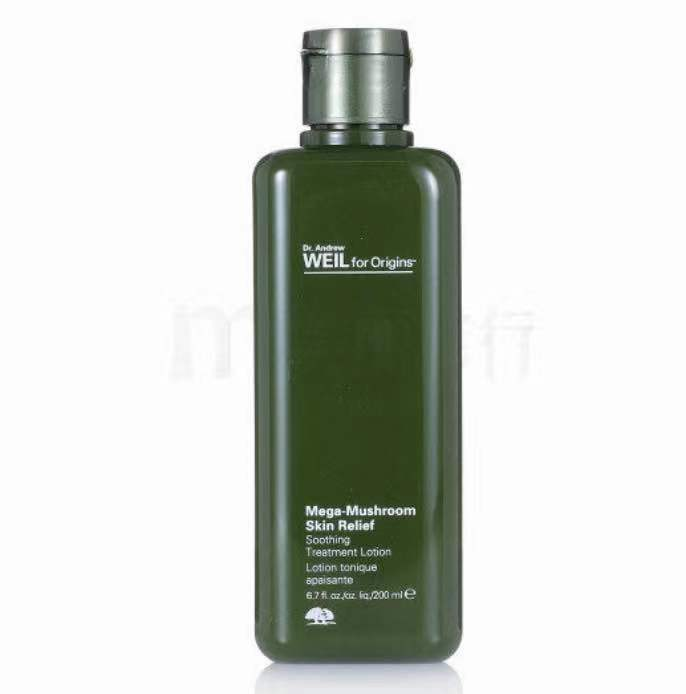cosmetic: (250, 21, 464, 668)
